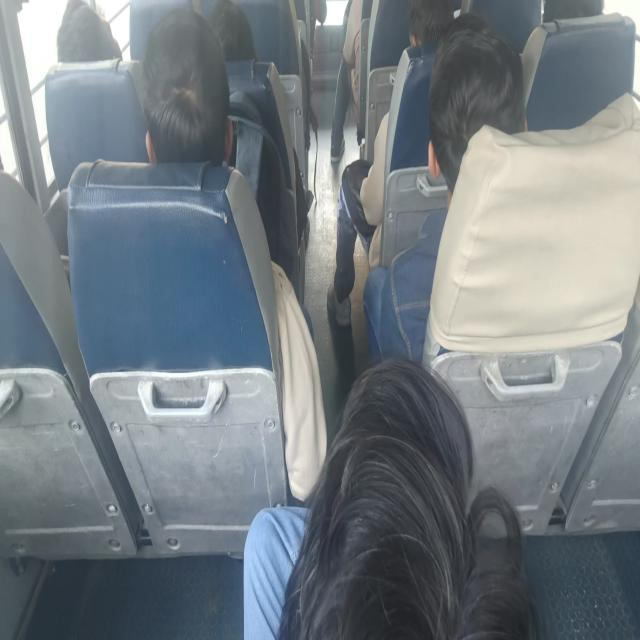person: (270, 348, 520, 640), (428, 30, 522, 194), (141, 33, 236, 174), (56, 0, 115, 66), (402, 0, 453, 71), (209, 0, 260, 59), (537, 0, 600, 27)
